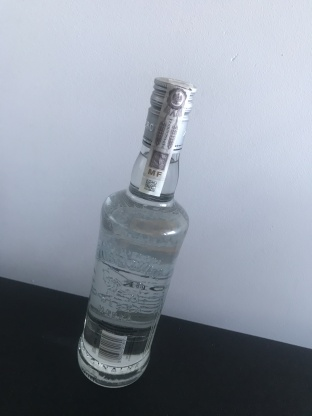nakretka: (140, 73, 198, 156)
